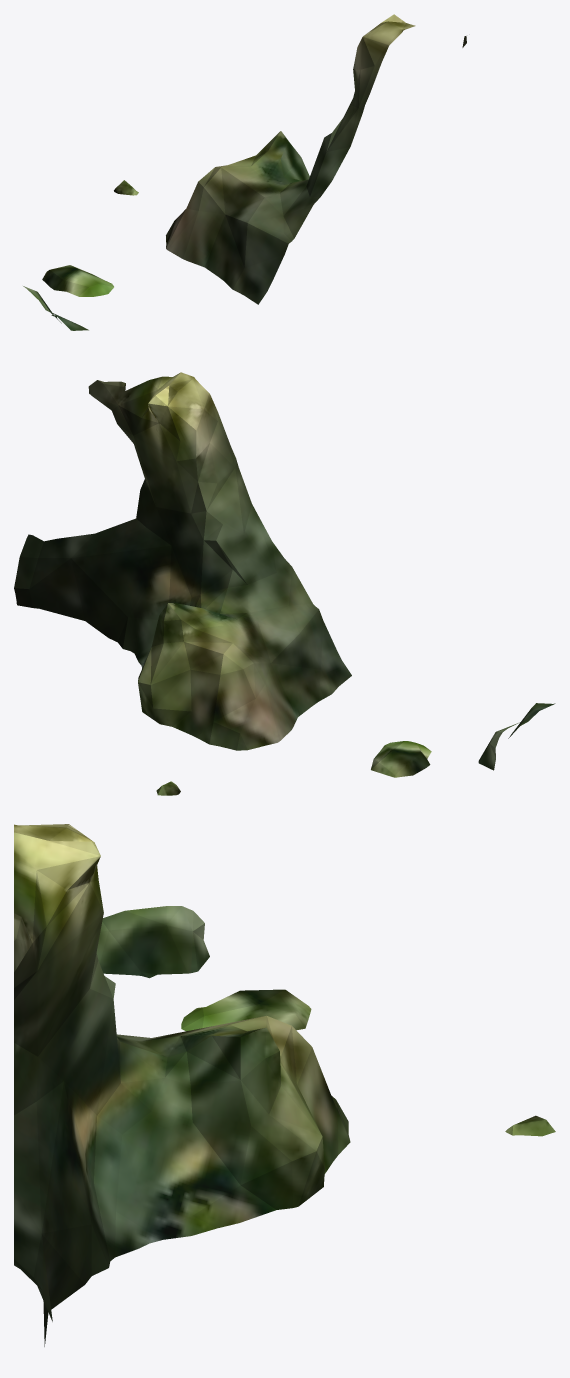
The picture shows the model from 3 angles, top to bottom: view 1: azimuth 30°, elevation 25°; view 2: azimuth 150°, elevation 25°; view 3: azimuth 270°, elevation 25°; orthographic projection. The views are drawn at different scales.
Bounding box in the file's own units: 0.8373 × 0.3969 × 0.471.
1 material, 1 textured.
